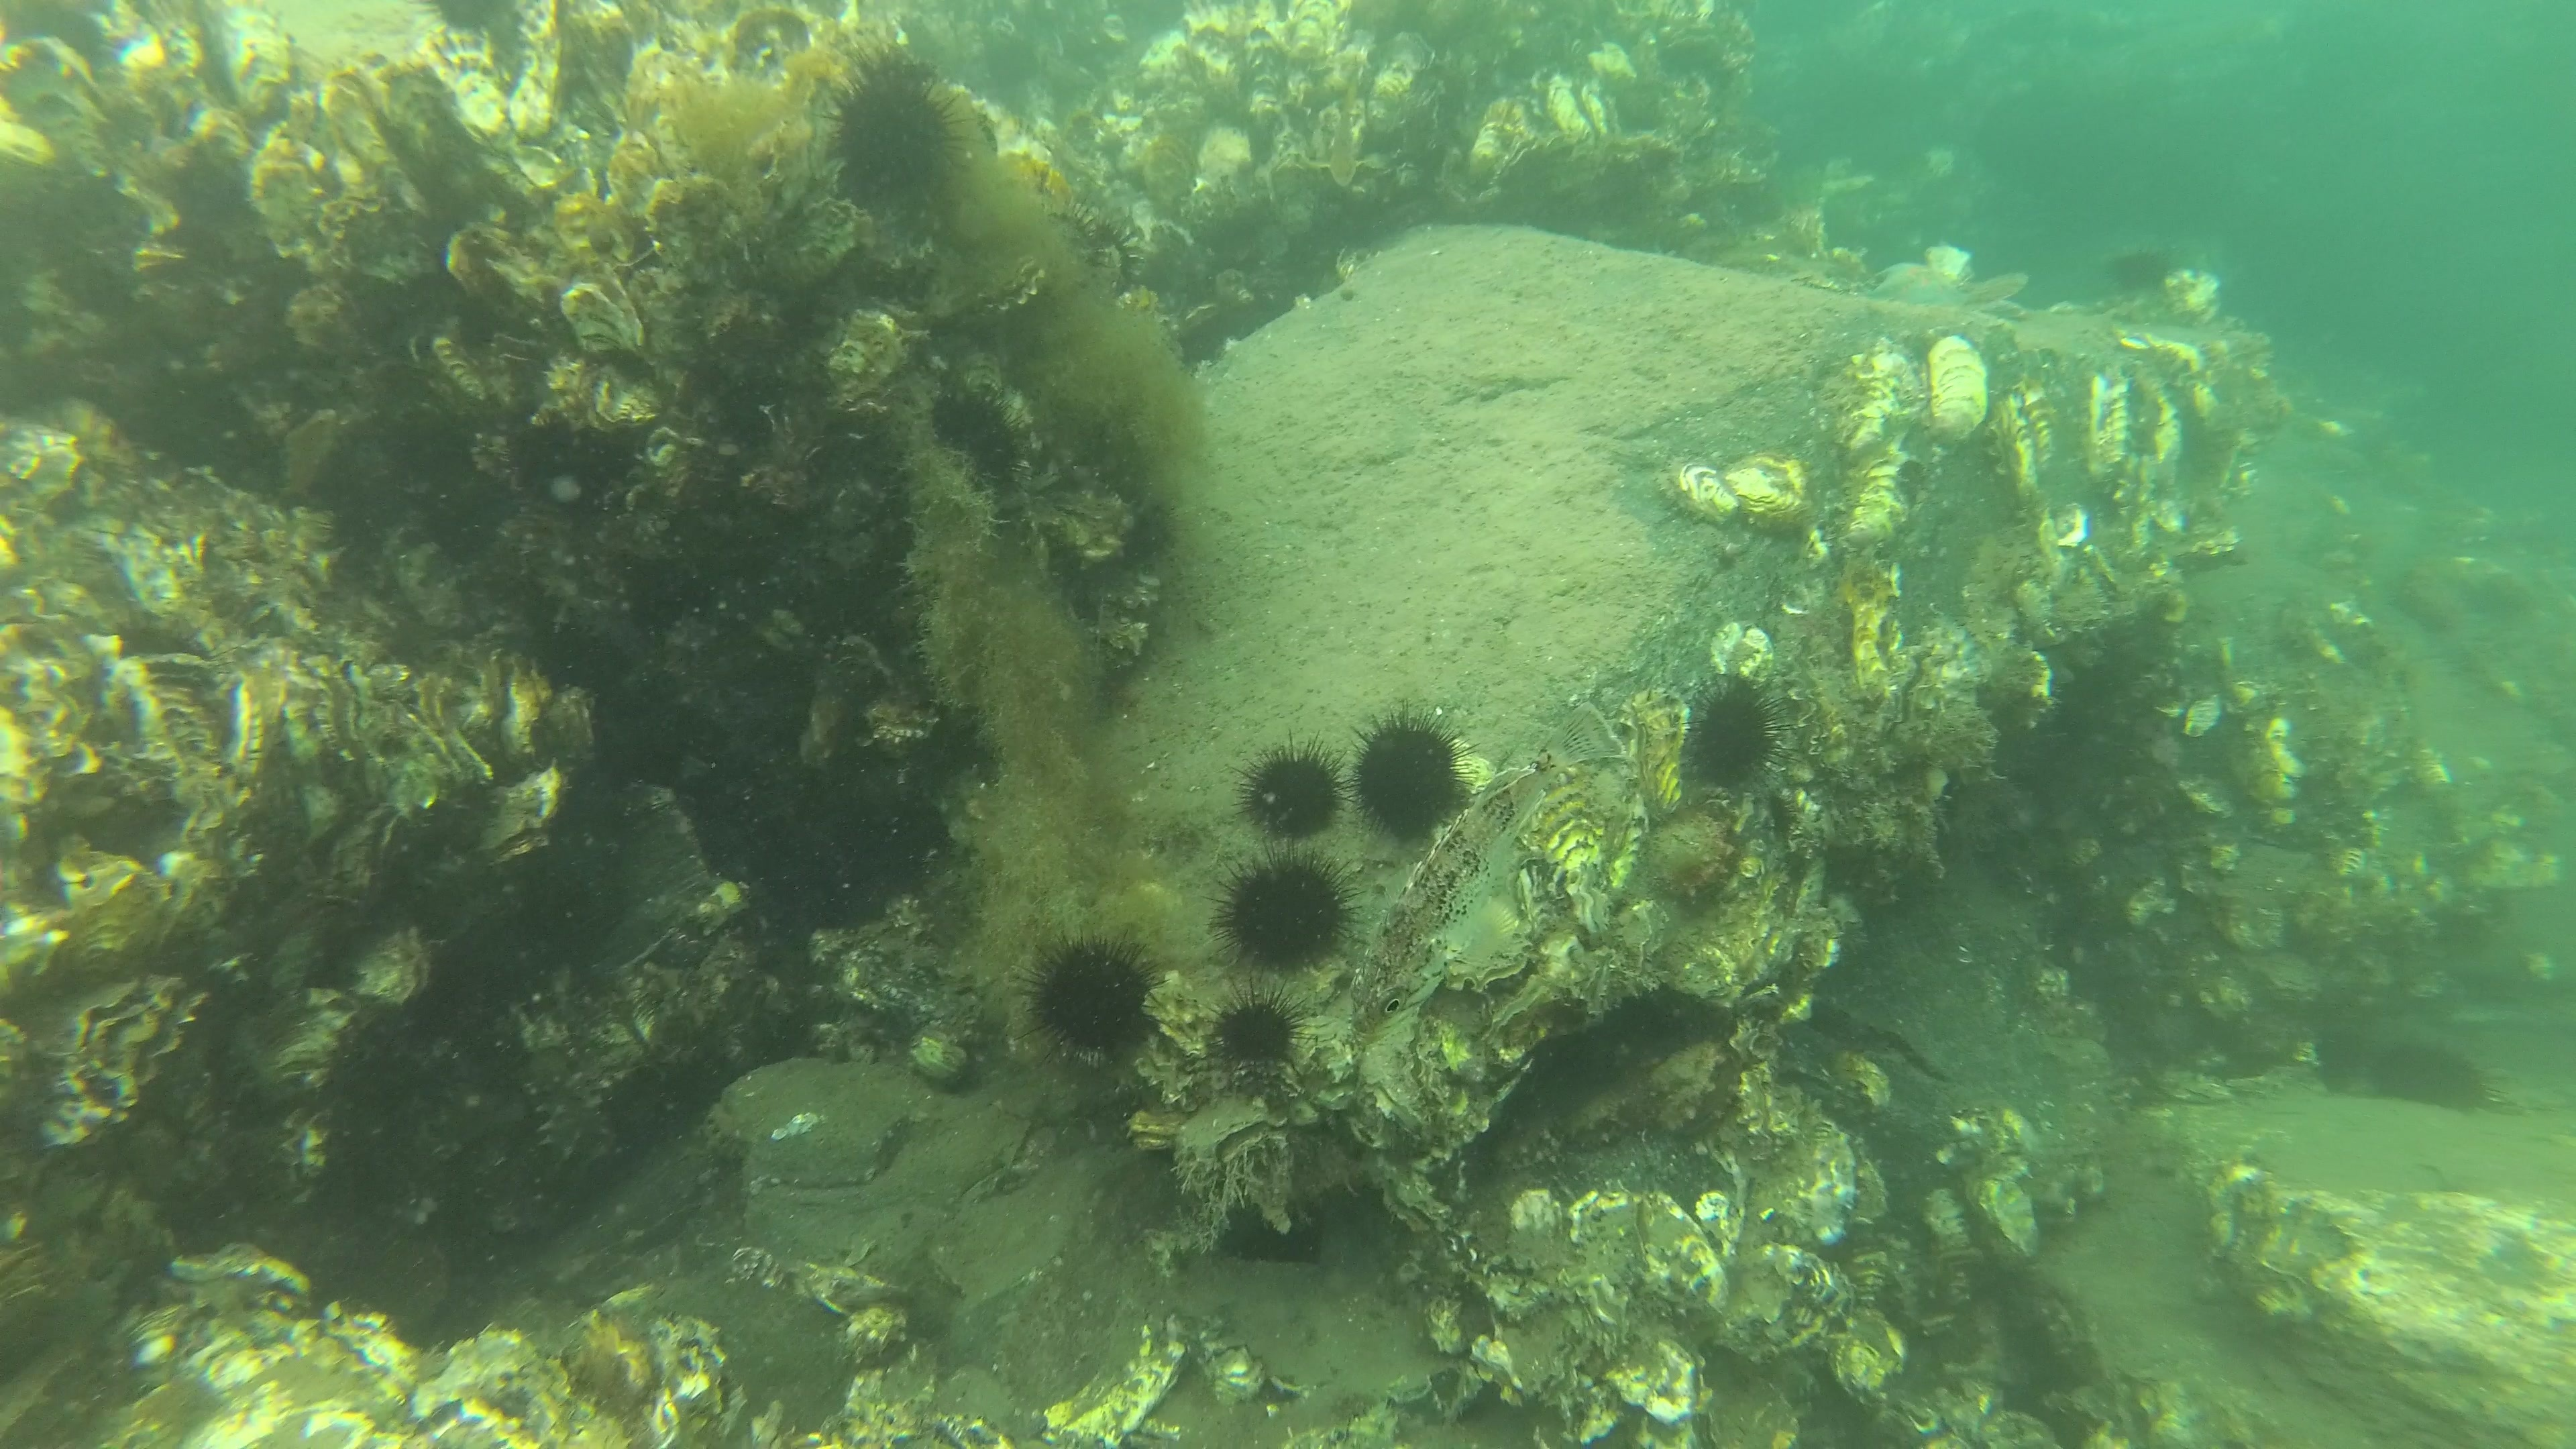echinus: (828, 50, 961, 209), (1205, 851, 1359, 971), (1346, 702, 1474, 847), (1017, 938, 1161, 1063), (922, 379, 1035, 506), (1231, 738, 1352, 847), (1684, 672, 1785, 794), (2371, 1033, 2493, 1115), (1203, 980, 1307, 1065)
starfish: (1870, 258, 1971, 310)
